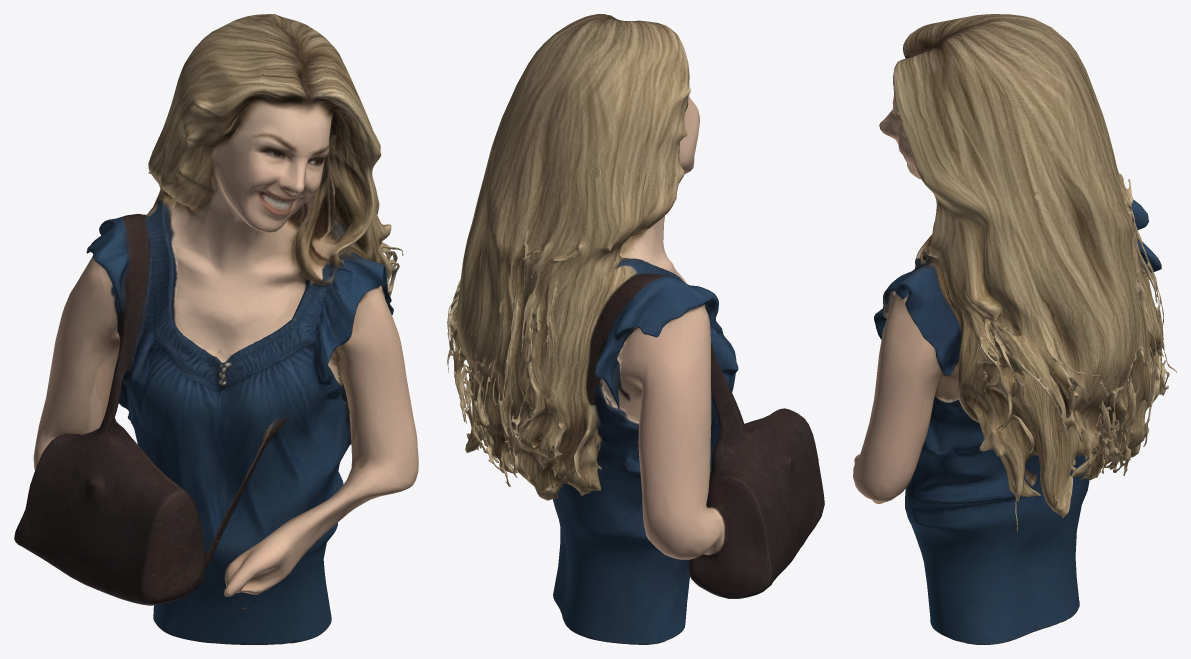
File: Meshy_AI_Sunlit_Smile_nodraco.glb
3 views of the same model, side by side, from view 1: azimuth 30°, elevation 25°; view 2: azimuth 150°, elevation 25°; view 3: azimuth 270°, elevation 25° (orthographic). The views are drawn at different scales.
Bounding box in the file's own units: 1.16 × 1.9 × 0.9249.
Materials: 1 (1 with a texture image).
